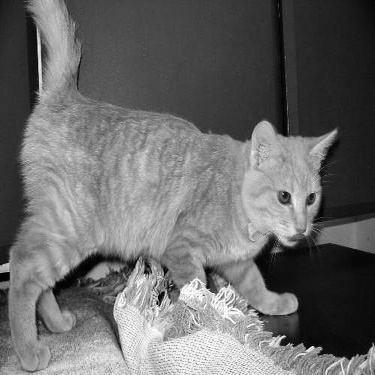cat: (1, 5, 336, 364)
